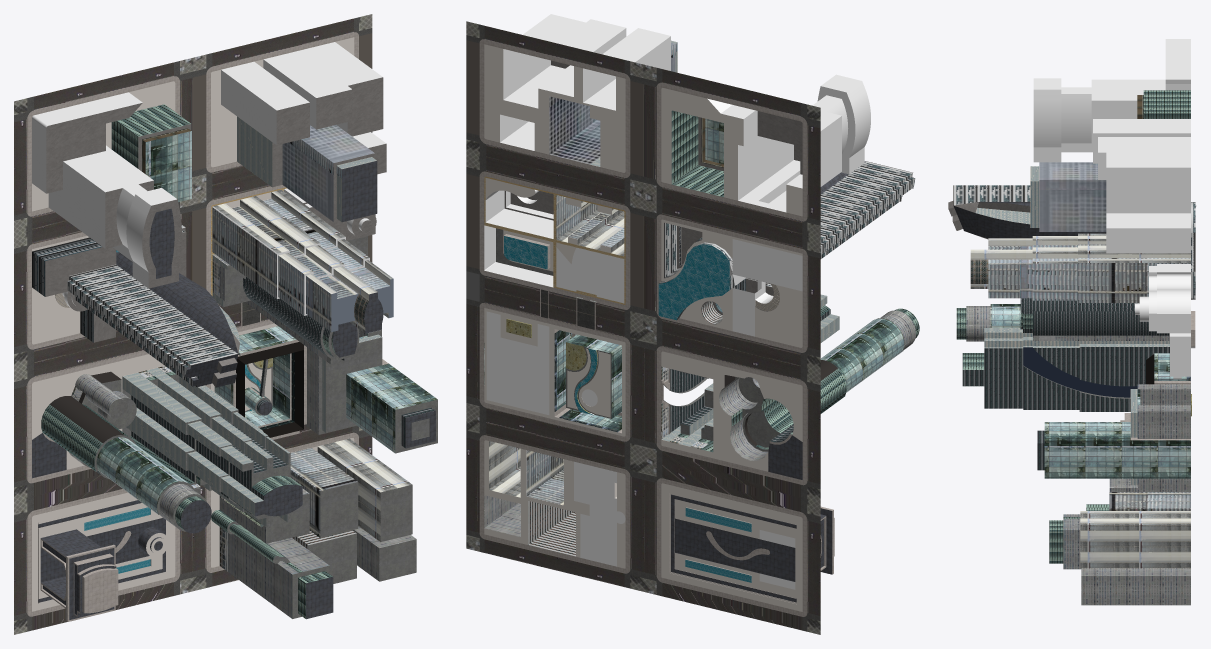
Rendered from Untitledtrh5ytt.obj.
The picture shows the model from 3 angles, left to right: view 1: azimuth 30°, elevation 25°; view 2: azimuth 150°, elevation 25°; view 3: azimuth 270°, elevation 25°; orthographic projection. The views are drawn at different scales.
Parts seen in each view (by area): view 1: mesh1, mesh2; view 2: mesh1; view 3: mesh1.
Part boxes in pixels (x1,y1,x2,y2): mesh1: [14, 14, 437, 634]; mesh2: [138, 527, 168, 557]; mesh1: [466, 14, 919, 634]; mesh1: [948, 39, 1195, 605].
Size of the model in its own units: 21848 by 31093 by 14944.
Materials: 38 (34 with a texture image).
